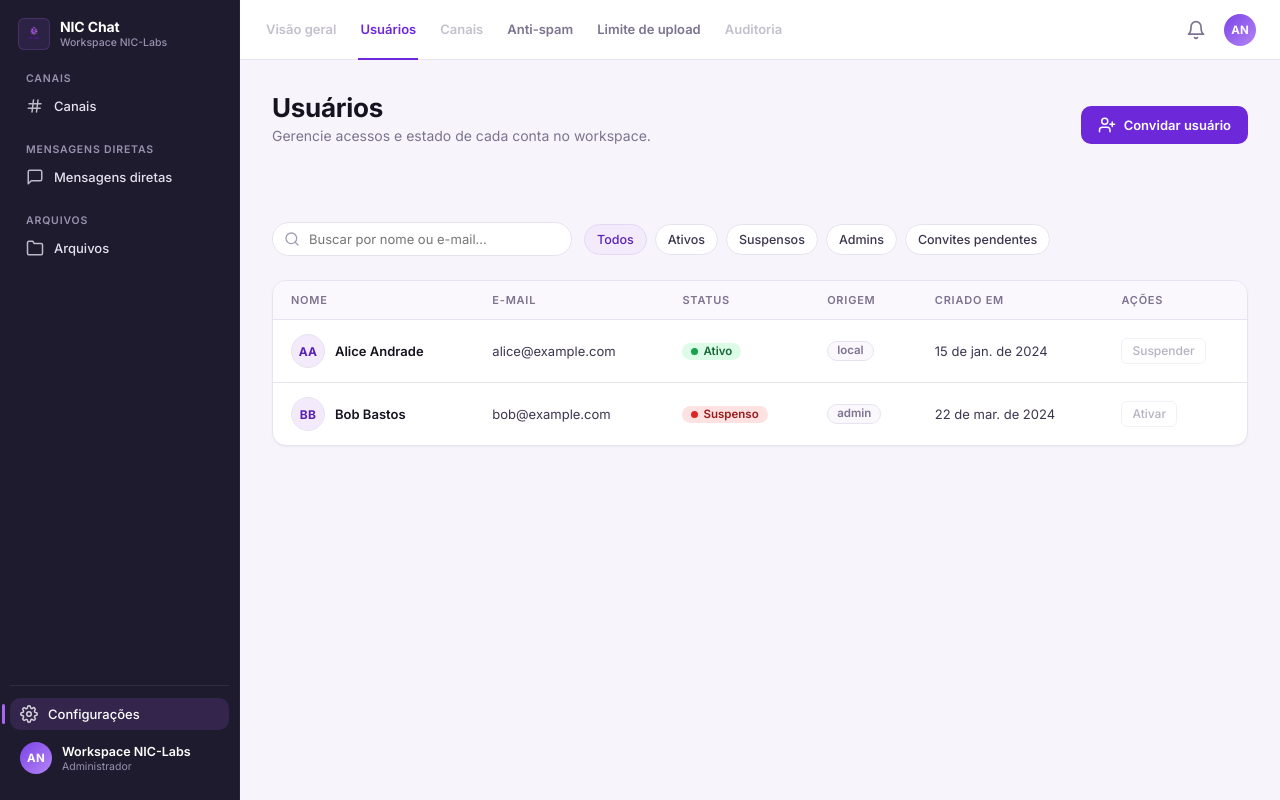
Test: AdminUsersPage — filter chips › clicking Ativos chip filters to active users only
Expected: the text "Alice Andrade" is shown, [335,342,424,359]
Click the button "Ativos" at (686, 239), box [655,224,718,254]
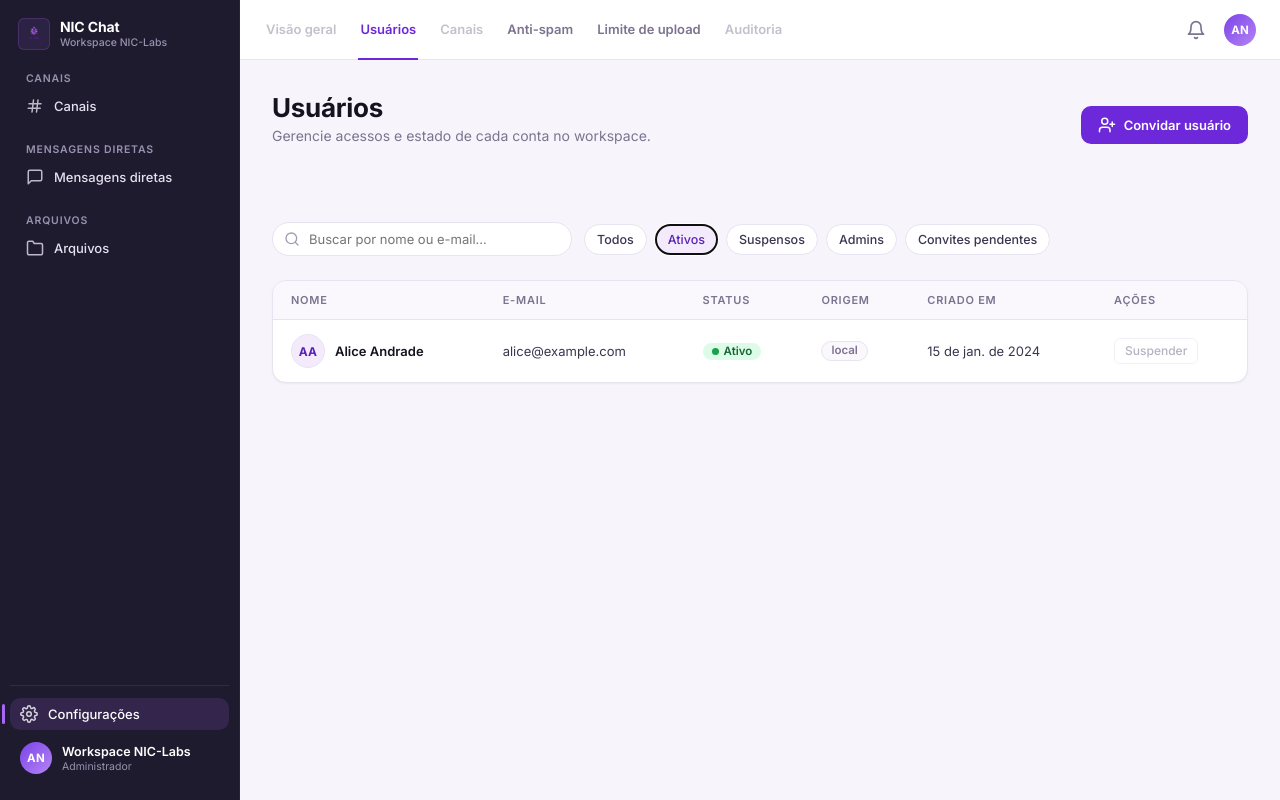
Expected: the text "Alice Andrade" is shown, [335,342,424,359]
Result: the text "Bob Bastos" is gone
